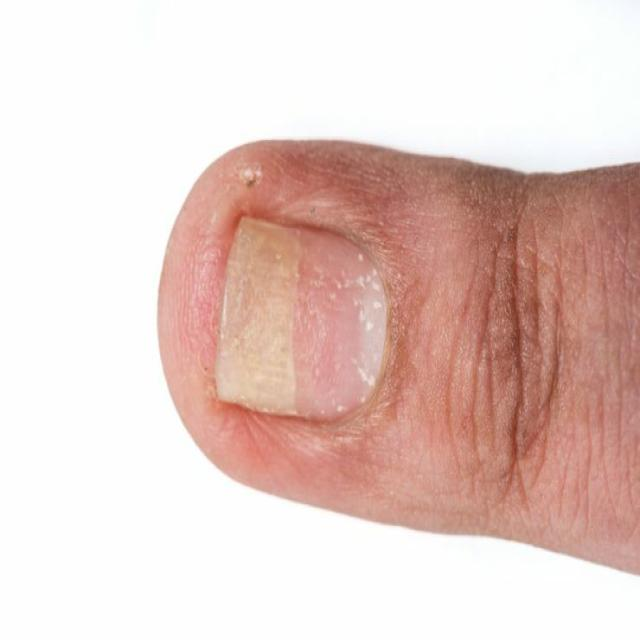diabetes: (216, 214, 389, 421)
